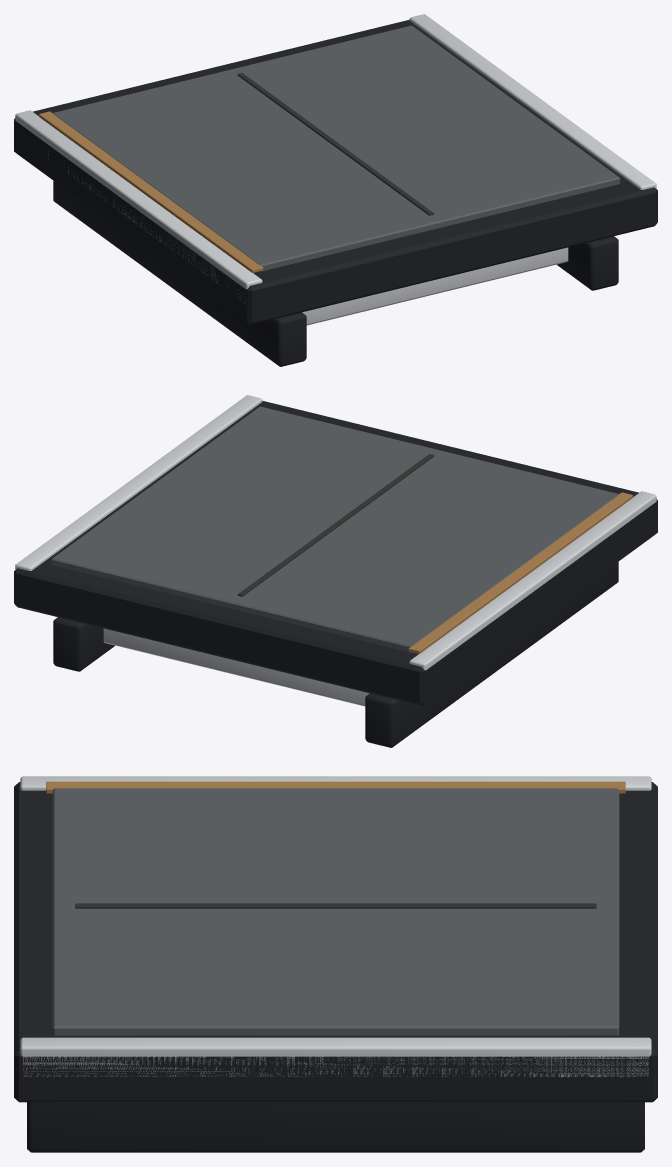
File: path_straight.glb
The picture shows the model from 3 angles, top to bottom: view 1: azimuth 30°, elevation 25°; view 2: azimuth 150°, elevation 25°; view 3: azimuth 270°, elevation 25°; orthographic projection. The views are drawn at different scales.
Parts seen in each view (by area): view 1: PathPanel, PathSlab, PathBeamL, PathTrim0, PathTrim1, PathRib0, PathHazard, PathBeamR, PathGroove; view 2: PathPanel, PathSlab, PathBeamL, PathTrim0, PathTrim1, PathRib2, PathHazard, PathBeamR, PathGroove; view 3: PathPanel, PathSlab, PathBeamR, PathTrim1, PathHazard, PathTrim0, PathGroove, PathTray.
Part boxes in pixels (x1,y1,x2,y2): PathPanel: (52,25,620,271); PathSlab: (14,20,657,324); PathBeamL: (53,181,306,366); PathTrim0: (15,110,262,303); PathTrim1: (409,14,656,189); PathRib0: (302,247,568,325); PathHazard: (39,111,263,272); PathBeamR: (557,236,618,290); PathGroove: (237,73,434,215); PathPanel: (51,406,619,652); PathSlab: (14,401,657,705); PathBeamL: (365,562,618,747); PathTrim0: (409,491,656,670); PathTrim1: (15,395,262,570); PathRib2: (103,628,369,706); PathHazard: (408,492,632,653); PathBeamR: (53,617,114,671); PathGroove: (237,454,434,596); PathPanel: (52,788,619,1035); PathSlab: (14,782,657,1102); PathBeamR: (27,1102,644,1152); PathTrim1: (20,1037,651,1077); PathHazard: (46,781,625,793); PathTrim0: (20,776,651,790); PathGroove: (75,903,596,908); PathTray: (54,1102,617,1102).
Bounding box in the file's own units: 1 × 0.234 × 1.
